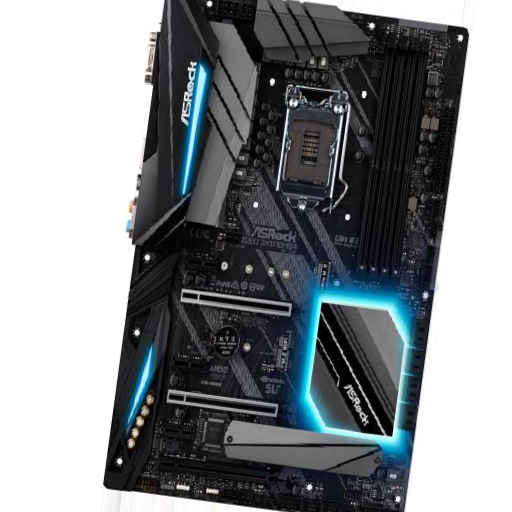CPU: (275, 90, 344, 211)
GPU: (180, 286, 312, 331), (164, 388, 296, 427)
MOTHERBOARD: (102, 2, 473, 512)
RAM: (352, 32, 433, 287)
SSD: (269, 334, 293, 373), (311, 260, 333, 296)
